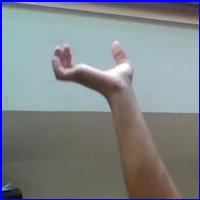B: (49, 35, 141, 95)
